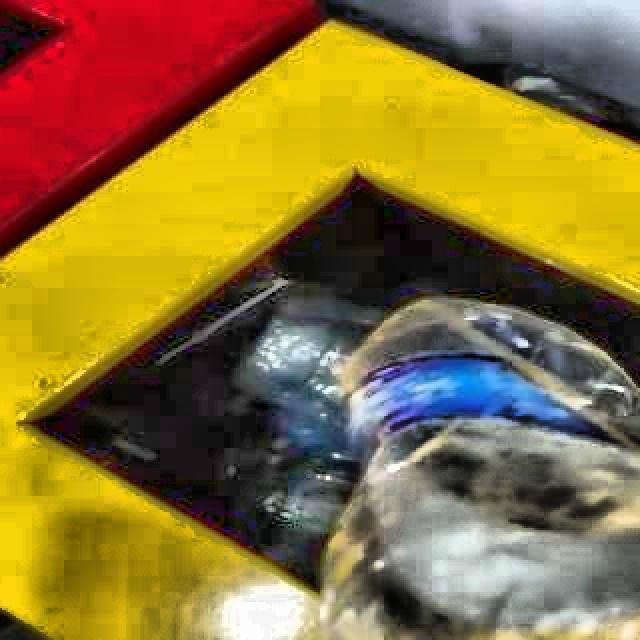plastic: (323, 302, 640, 640)
